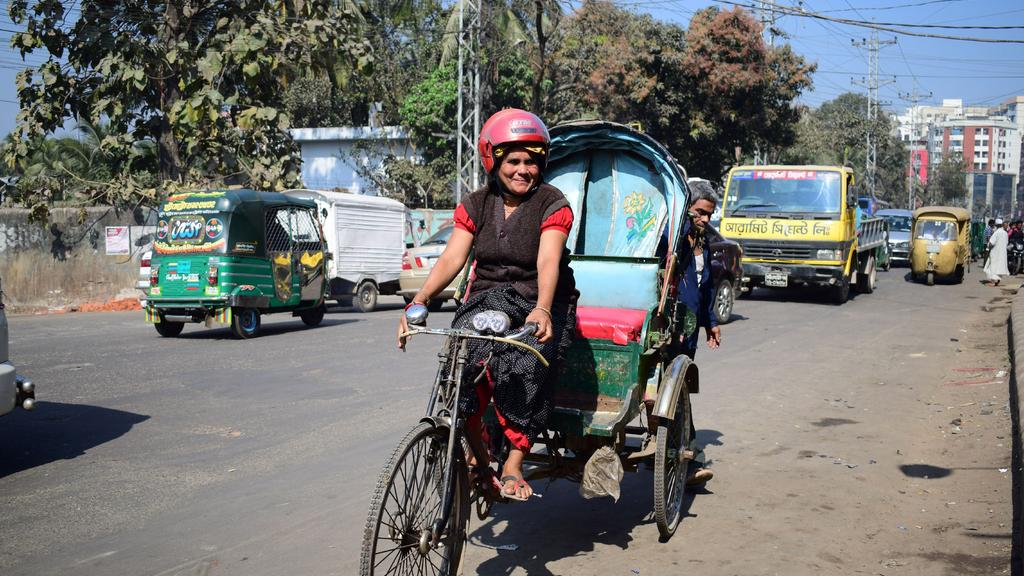Rickshaw: (360, 108, 713, 573)
